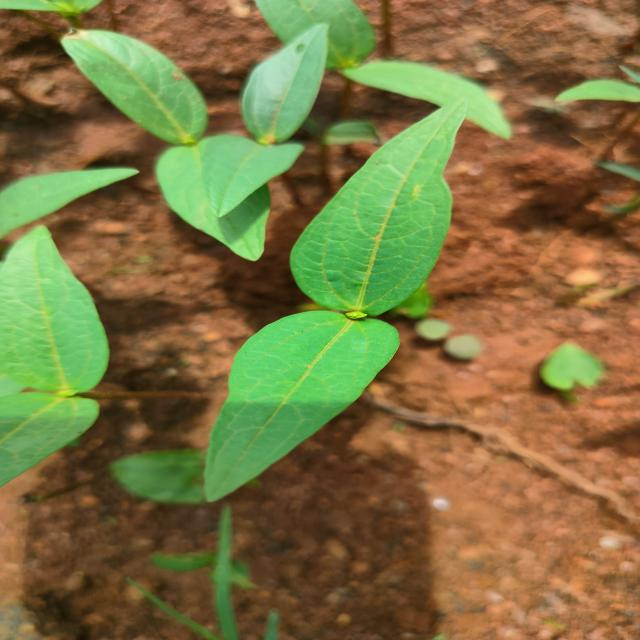Black gram_healthy: (204, 308, 406, 506), (295, 98, 465, 316), (6, 226, 116, 408), (63, 31, 222, 141), (156, 133, 292, 260), (239, 20, 333, 133)
